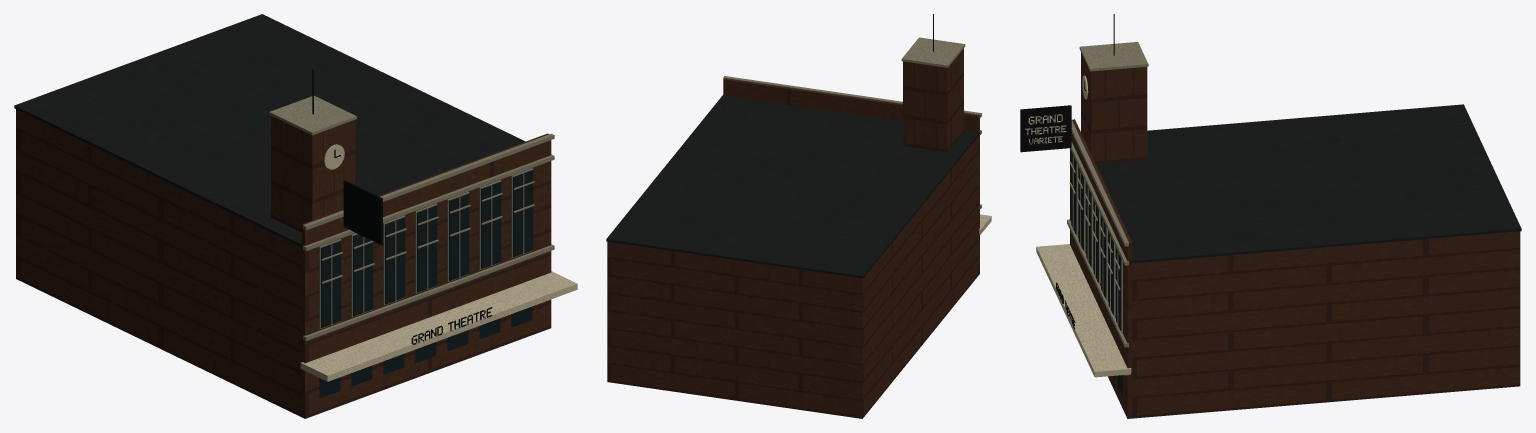
The picture shows the model from 3 angles, left to right: view 1: azimuth 30°, elevation 25°; view 2: azimuth 150°, elevation 25°; view 3: azimuth 270°, elevation 25°; orthographic projection. The views are drawn at different scales.
Parts seen in each view (by area): view 1: grand-theatre-0, grand-theatre-1, grand-theatre-3, grand-theatre-2, grand-theatre-4, grand-theatre-5; view 2: grand-theatre-0, grand-theatre-1, grand-theatre-2; view 3: grand-theatre-0, grand-theatre-1, grand-theatre-2, grand-theatre-4, grand-theatre-3, grand-theatre-5.
Part boxes in pixels (x1,y1,x2,y2): grand-theatre-0: [16, 109, 551, 418]; grand-theatre-1: [14, 14, 525, 247]; grand-theatre-3: [319, 170, 533, 398]; grand-theatre-2: [269, 95, 554, 371]; grand-theatre-4: [300, 144, 577, 381]; grand-theatre-5: [312, 68, 492, 344]; grand-theatre-0: [607, 48, 979, 418]; grand-theatre-1: [606, 95, 979, 278]; grand-theatre-2: [723, 37, 981, 208]; grand-theatre-0: [1070, 52, 1520, 418]; grand-theatre-1: [1096, 104, 1521, 263]; grand-theatre-2: [1067, 42, 1148, 375]; grand-theatre-4: [1025, 75, 1131, 377]; grand-theatre-3: [1071, 152, 1122, 395]; grand-theatre-5: [1020, 14, 1114, 329].
Bounding box in the file's own units: 34.4 × 29.6 × 45.48.
Materials: 6 (6 with a texture image).
